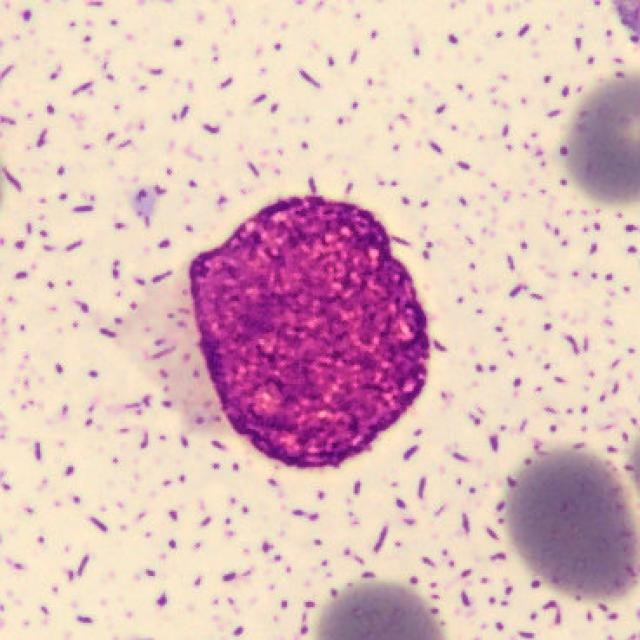Mieloblasto: (190, 195, 435, 470)
